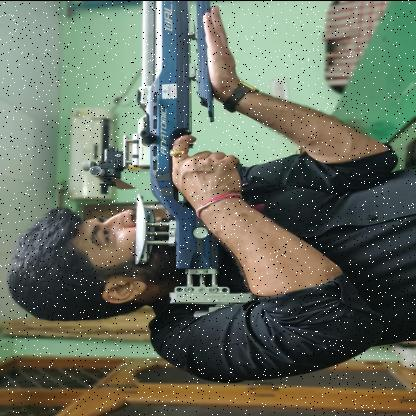rifle: (78, 0, 258, 318)
